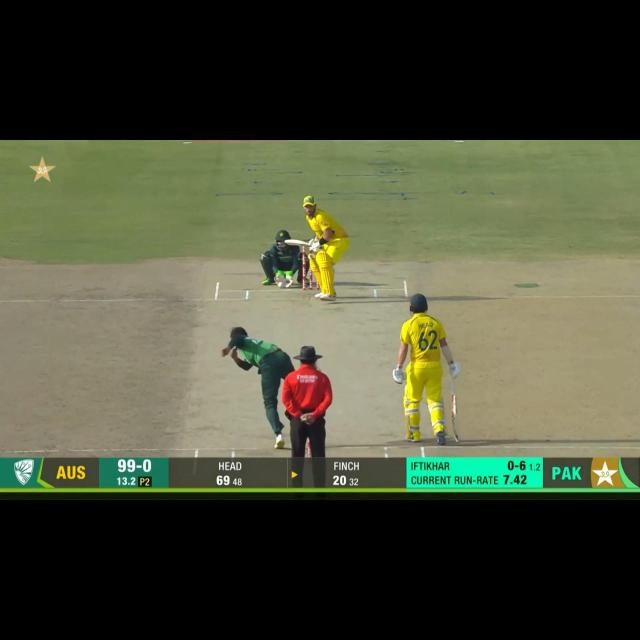bat: (450, 396, 463, 442), (284, 237, 312, 248)
toe: (453, 430, 462, 444), (285, 238, 296, 246)
